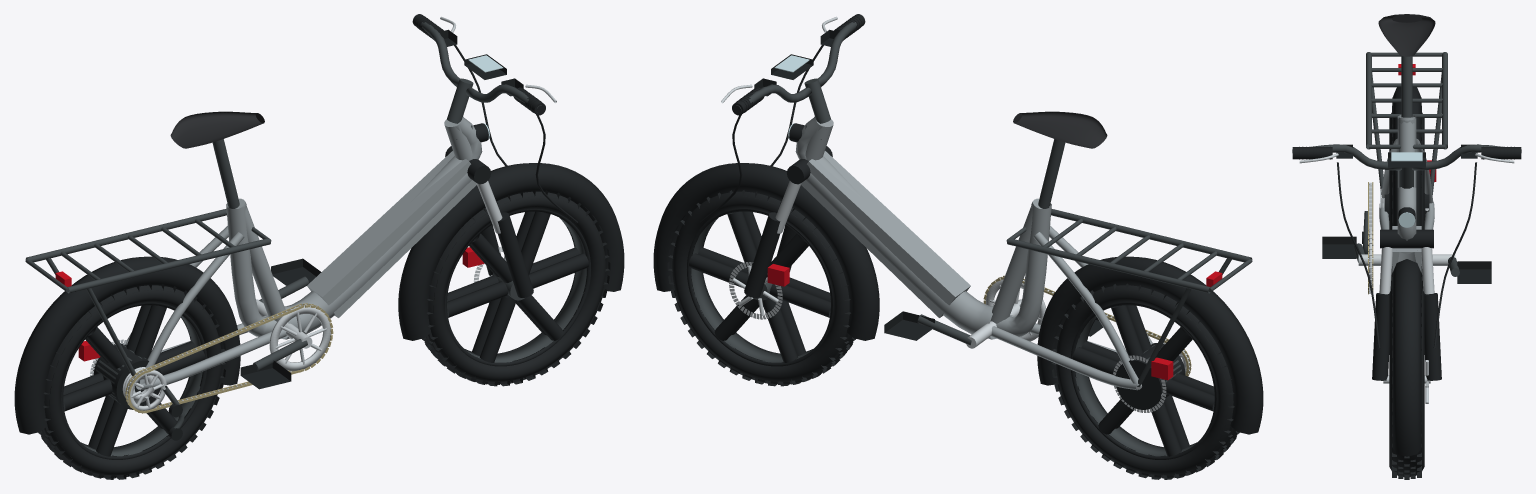
File: himiway-big-dog.glb
3 views of the same model, side by side, from view 1: azimuth 30°, elevation 25°; view 2: azimuth 150°, elevation 25°; view 3: azimuth 270°, elevation 25° (orthographic). The views are drawn at different scales.
Parts seen in each view (by area): view 1: Bodywork | black, FrontWheel | rubber, BatteryMount | grey, FrontWheel | black, RearWheel | rubber, Chassis | grey, RearWheel | black, Bodywork | graphite, Drive | steel, Bodywork | seat, Fork | black, Drive | black (+9 smaller); view 2: Bodywork | black, BatteryMount | grey, FrontWheel | rubber, RearWheel | rubber, Chassis | grey, FrontWheel | black, RearWheel | black, Bodywork | graphite, Bodywork | seat, Fork | black, Cockpit | graphite, FrontWheel | graphite (+8 smaller); view 3: Bodywork | black, Bodywork | graphite, Fork | black, Chassis | grey, FrontWheel | rubber, Cockpit | rubber, Bodywork | seat, Drive | black, Cockpit | graphite, Fork | steel, Cockpit | black, Drive | steel (+7 smaller).
Boxes of the visible parts, box(x1,y1,x2,y2) form: Bodywork | black: box(14, 123, 624, 434); FrontWheel | rubber: box(422, 190, 610, 386); BatteryMount | grey: box(281, 151, 476, 339); FrontWheel | black: box(445, 209, 590, 366); RearWheel | rubber: box(38, 283, 226, 479); Chassis | grey: box(126, 116, 482, 390); RearWheel | black: box(61, 302, 207, 459); Bodywork | graphite: box(25, 209, 271, 383); Drive | steel: box(122, 299, 331, 410); Bodywork | seat: box(170, 111, 264, 148); Fork | black: box(445, 146, 533, 297); Drive | black: box(168, 258, 321, 440); Bodywork | black: box(653, 123, 1263, 434); BatteryMount | grey: box(801, 151, 996, 339); FrontWheel | rubber: box(667, 190, 855, 386); RearWheel | rubber: box(1051, 283, 1239, 479); Chassis | grey: box(795, 116, 1152, 390); FrontWheel | black: box(687, 209, 832, 366); RearWheel | black: box(1070, 302, 1216, 459); Bodywork | graphite: box(1006, 209, 1252, 386); Bodywork | seat: box(1013, 111, 1107, 148); Fork | black: box(744, 146, 832, 297); Cockpit | graphite: box(736, 22, 857, 123); FrontWheel | graphite: box(691, 218, 812, 362); Bodywork | black: box(1392, 87, 1421, 456); Bodywork | graphite: box(1366, 52, 1447, 194); Fork | black: box(1372, 229, 1441, 380); Chassis | grey: box(1379, 115, 1434, 240); FrontWheel | rubber: box(1389, 281, 1424, 479); Cockpit | rubber: box(1292, 147, 1521, 348); Bodywork | seat: box(1378, 14, 1435, 56); Drive | black: box(1322, 231, 1491, 283); Cockpit | graphite: box(1292, 144, 1521, 188); Fork | steel: box(1379, 247, 1434, 294); Cockpit | black: box(1299, 144, 1514, 167); Drive | steel: box(1358, 182, 1455, 293).
Bounding box in the file's own units: 1.9 × 0.9968 × 0.6634.
